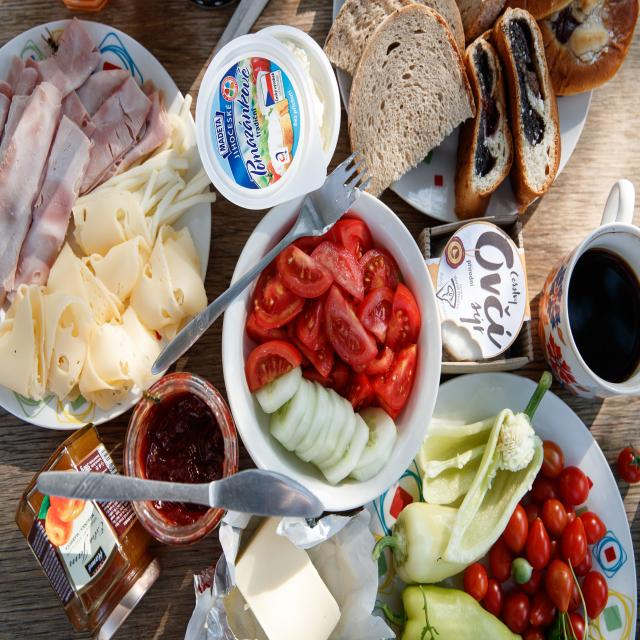Tomato: (325, 282, 380, 376), (270, 234, 330, 294), (242, 340, 311, 388)
